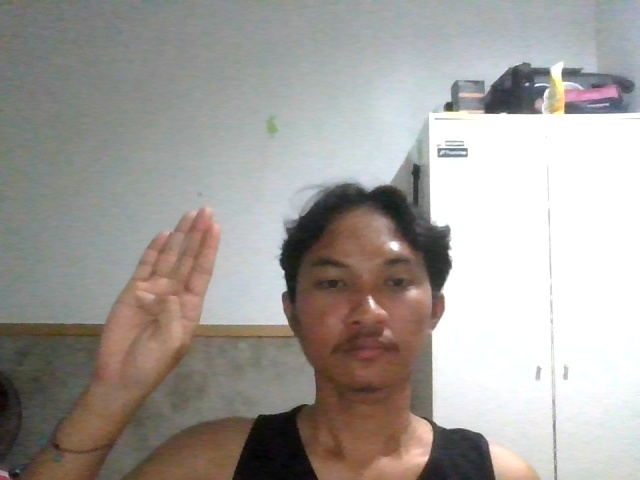b: (81, 198, 231, 398)
